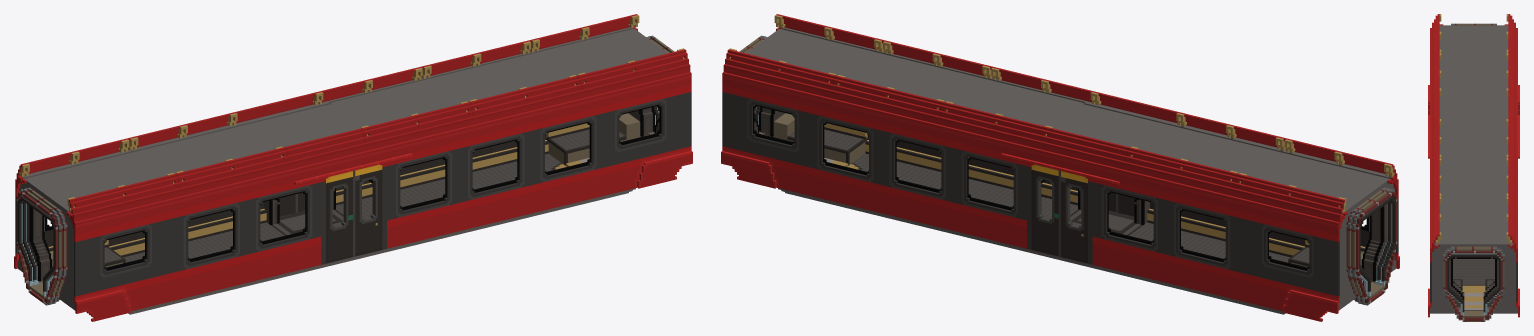
File: traverso_2.obj
3 renders of one model, left to right at view 1: azimuth 30°, elevation 25°; view 2: azimuth 150°, elevation 25°; view 3: azimuth 270°, elevation 25°, orthographic. The views are drawn at different scales.
Visible parts, largest first — view 1: FRAME_1, FRAME_2, INTERIOR_LCG_il_LINVERT_1, INTERIOR_LCG_il_LINVERT_2, doors; view 2: FRAME_1, FRAME_2, INTERIOR_LCG_il_LINVERT_1, INTERIOR_LCG_il_LINVERT_2, doors; view 3: FRAME_2, FRAME_1, INTERIOR_LCG_il_LINVERT_2.
Part boxes in pixels (x1,y1,x2,y2): FRAME_1: (14, 89, 385, 321); FRAME_2: (327, 14, 692, 253); INTERIOR_LCG_il_LINVERT_1: (18, 179, 372, 298); INTERIOR_LCG_il_LINVERT_2: (336, 104, 660, 218); doors: (278, 164, 382, 263); FRAME_1: (1028, 89, 1399, 321); FRAME_2: (721, 14, 1086, 253); INTERIOR_LCG_il_LINVERT_1: (1041, 179, 1395, 298); INTERIOR_LCG_il_LINVERT_2: (753, 104, 1077, 218); doors: (1031, 164, 1135, 263); FRAME_2: (1428, 124, 1519, 321); FRAME_1: (1428, 14, 1519, 147); INTERIOR_LCG_il_LINVERT_2: (1447, 253, 1500, 317).
Size of the model in its own units: 17.56 by 3.38 by 3.
1 material, 1 textured.
